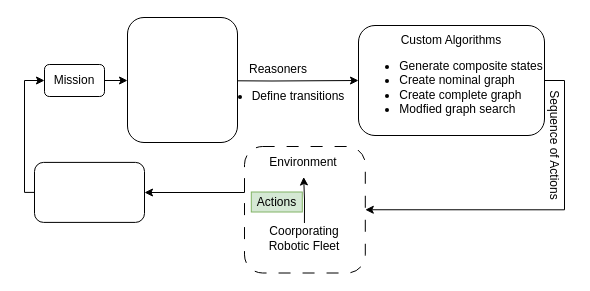
Image size: 590x291. Some labels were removed from this diagram. Each missing label, with the centre of its shape:
"SWM Environment Agents Actions States Constraints" goes at (182,79).
"Trigger Replanning" goes at (89,191).
